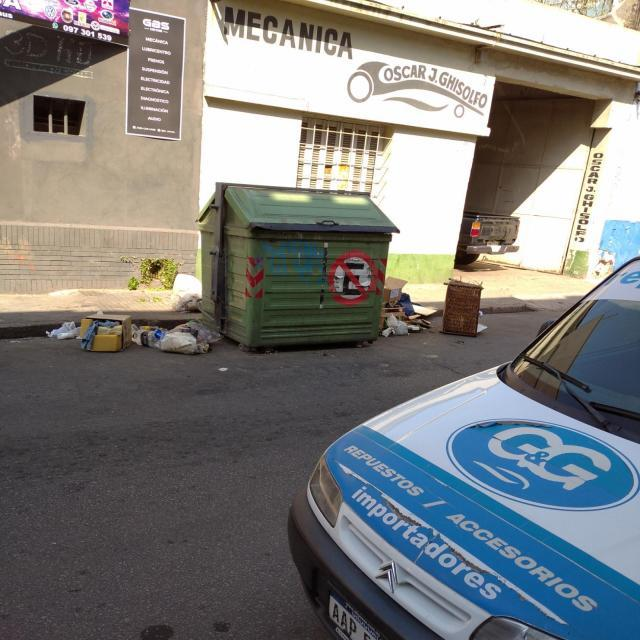garbage: (42, 307, 224, 363), (374, 270, 440, 356), (438, 269, 493, 347)
